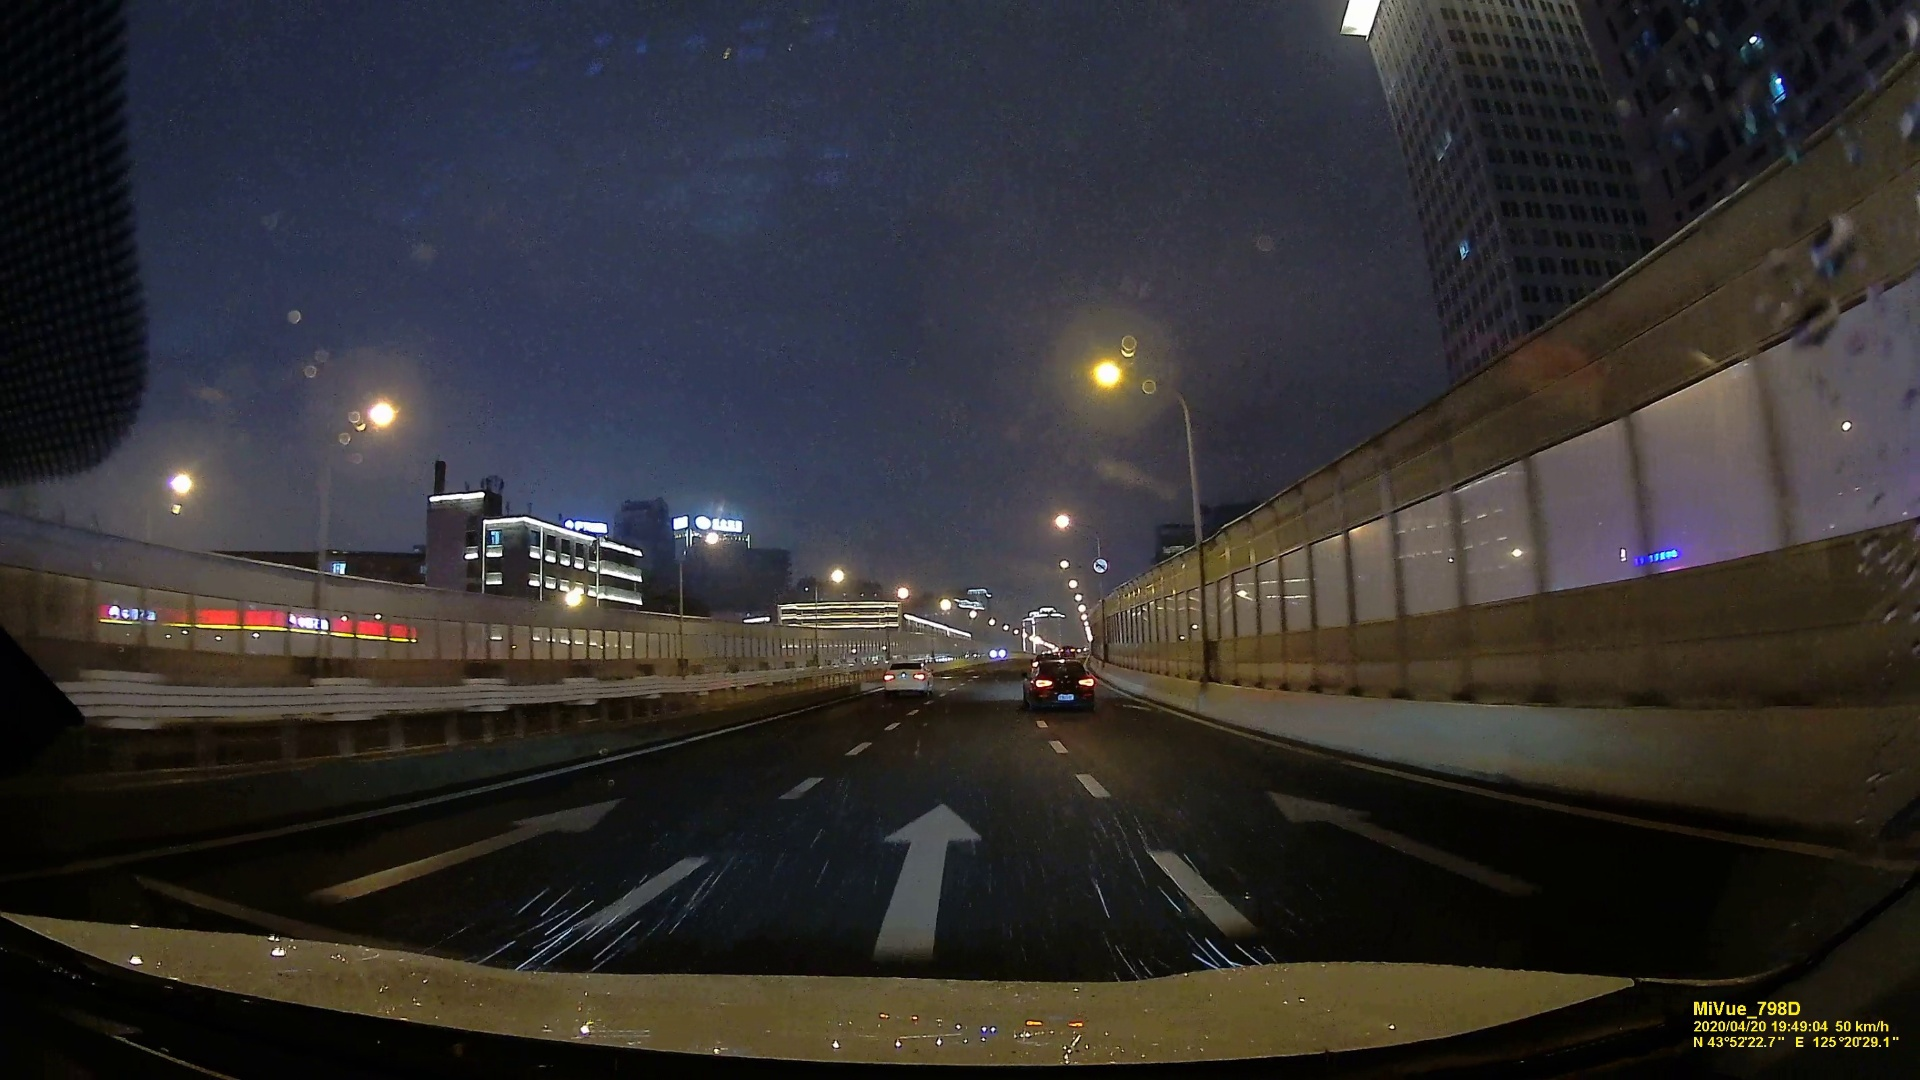vehicle: (1023, 657, 1097, 711), (884, 658, 932, 698)
